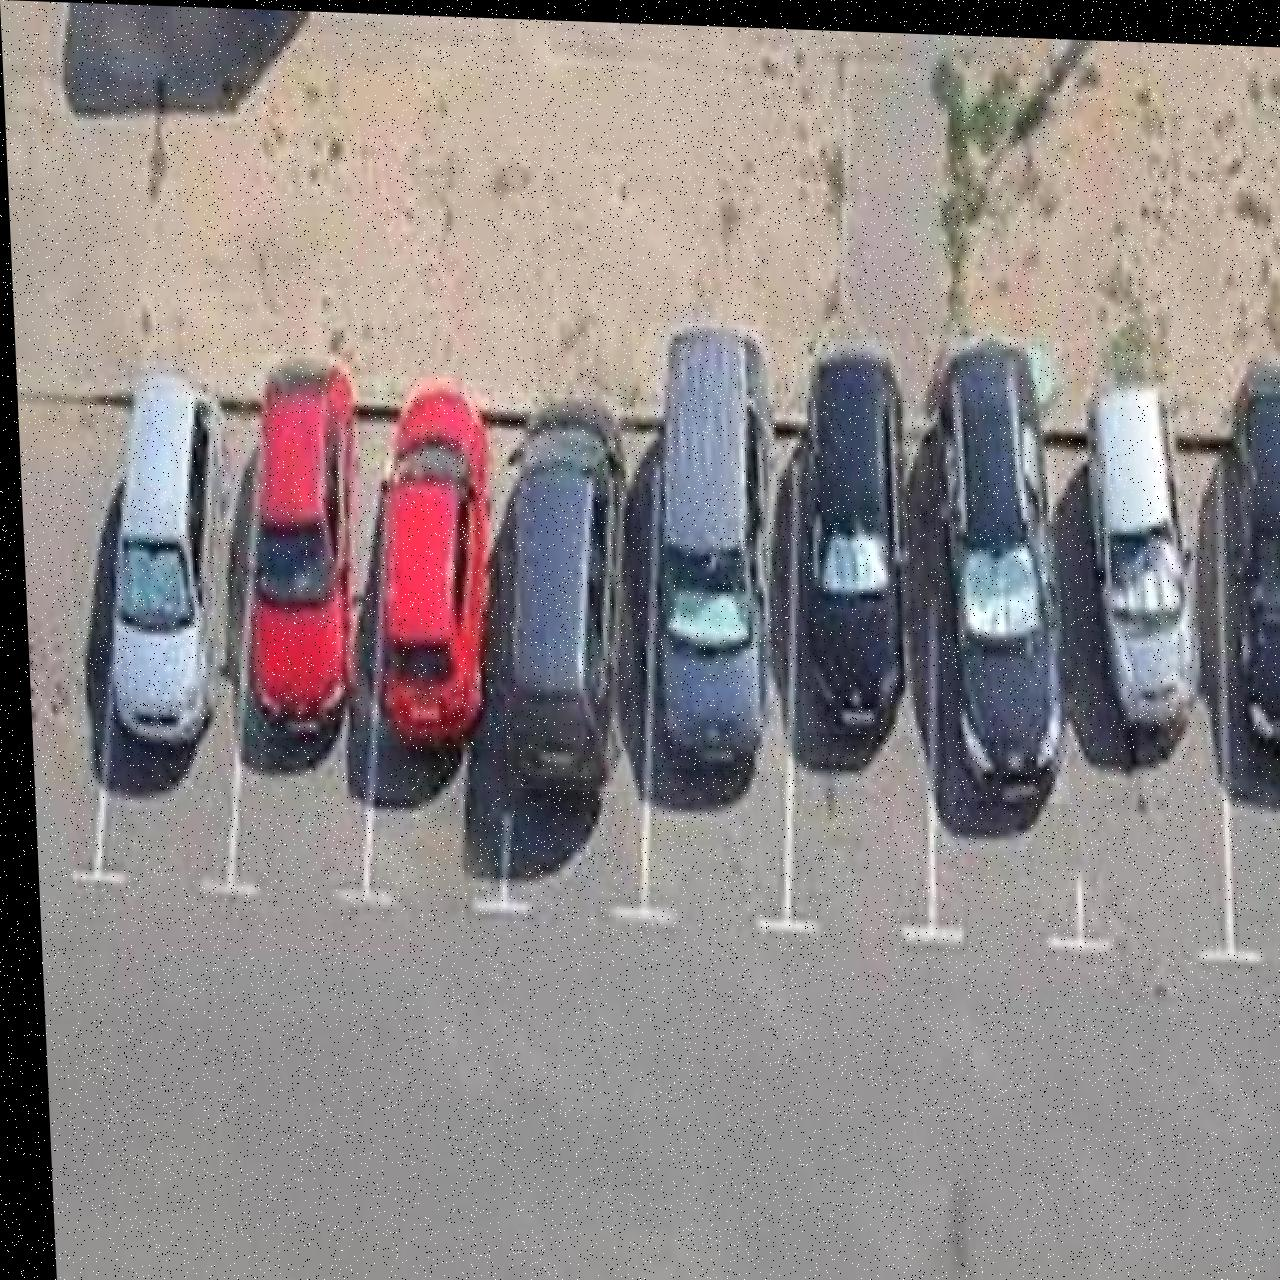car: (628, 316, 782, 765), (925, 327, 1063, 796), (488, 388, 633, 788), (89, 368, 232, 748), (353, 372, 497, 745), (229, 350, 366, 738), (783, 331, 911, 730), (1076, 370, 1196, 754), (1213, 345, 1280, 760)
